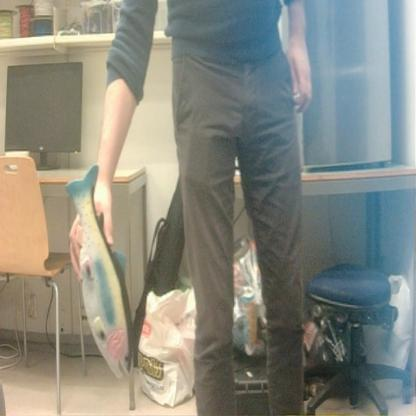rubberfish: (61, 160, 137, 384)
